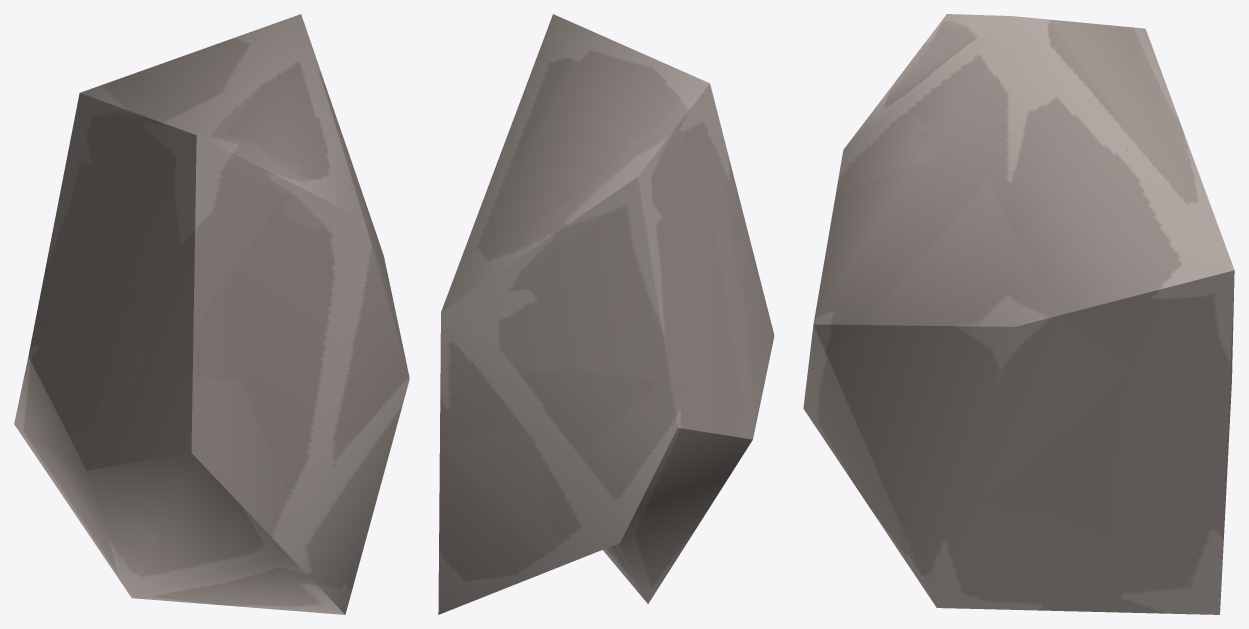
File: Rock3.fbx
3 renders of one model, left to right at view 1: azimuth 30°, elevation 25°; view 2: azimuth 150°, elevation 25°; view 3: azimuth 270°, elevation 25°, orthographic. The views are drawn at different scales.
Visible parts, largest first — view 1: Rock3; view 2: Rock3; view 3: Rock3.
Part boxes in pixels (box(x1,y1,x2,y2)): Rock3: box(14, 14, 409, 614); Rock3: box(438, 14, 774, 614); Rock3: box(803, 14, 1234, 614).
Size of the model in its own units: 242 by 445 by 296.
